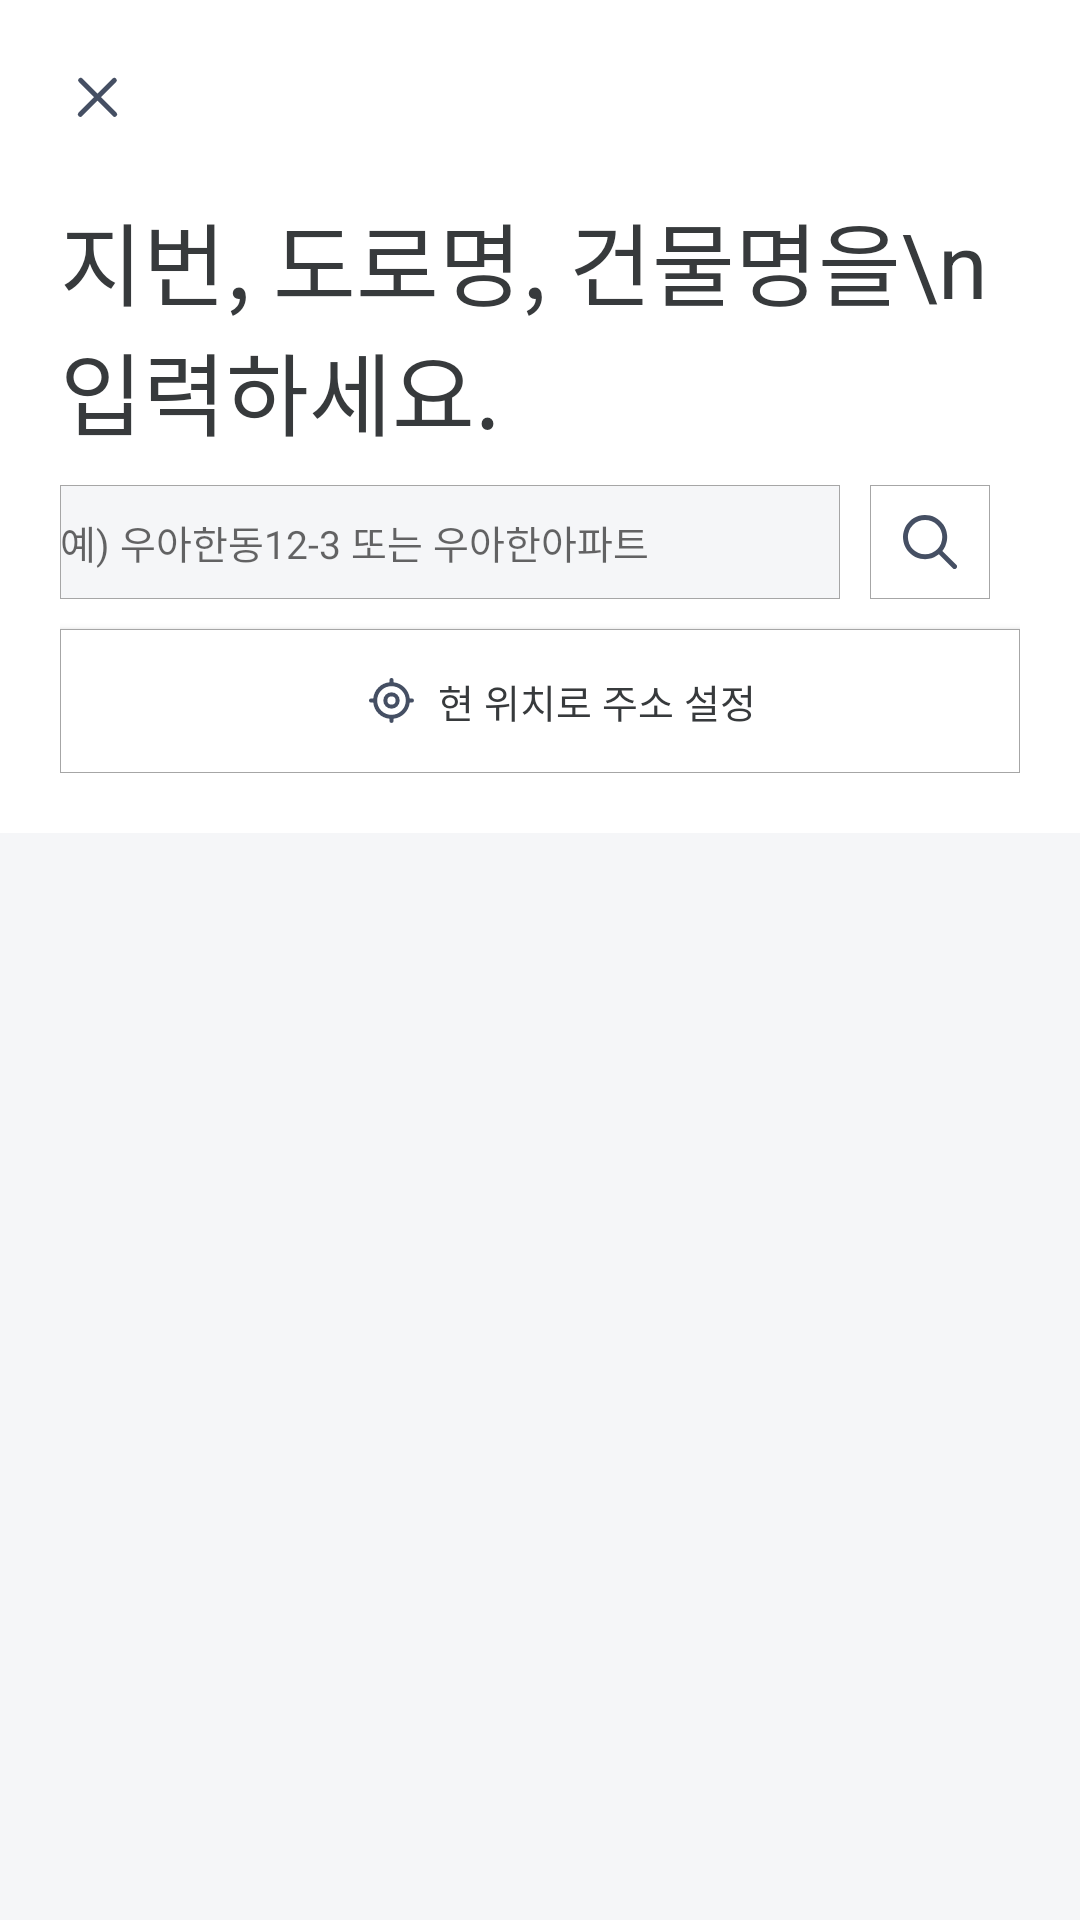

Point at icon controls on the screen. Image size 1080 × 1920, points as (x,y).
cancel: (97,97)
